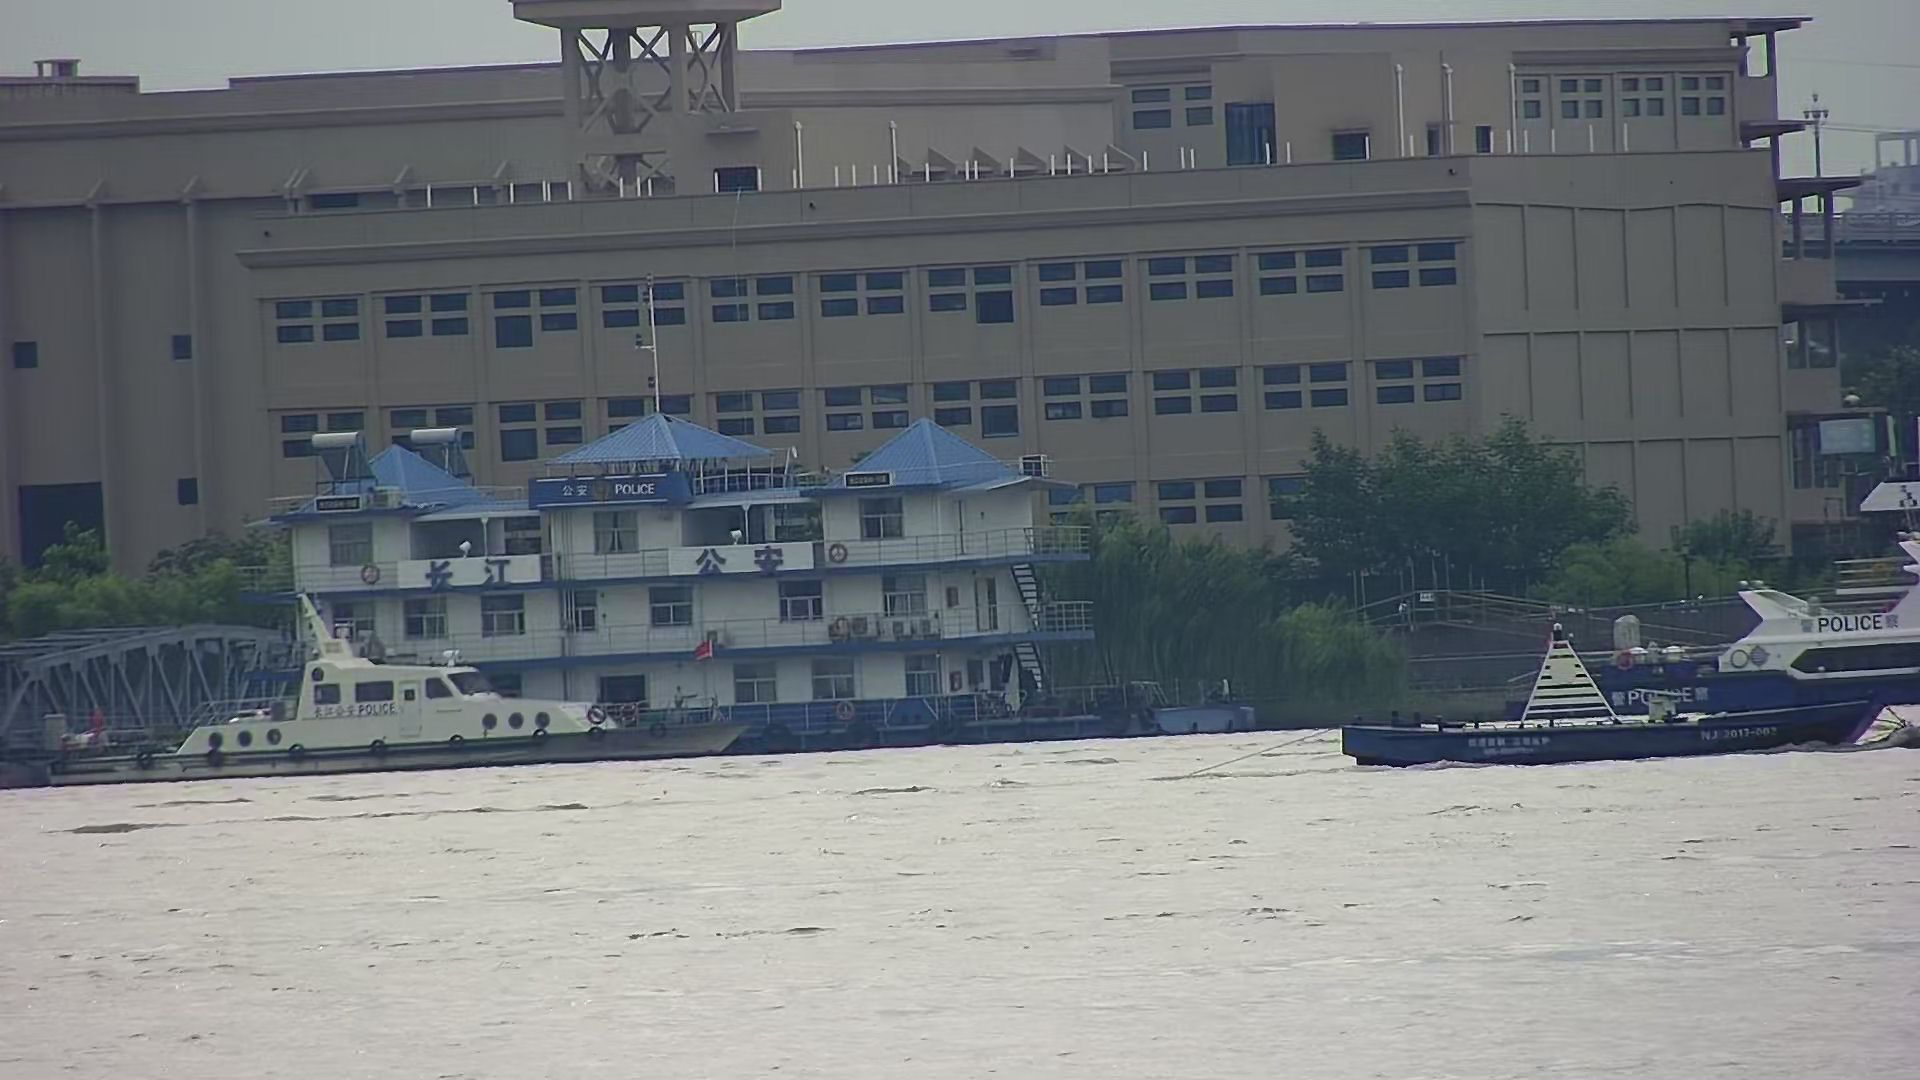boat: (1317, 611, 1907, 775), (186, 587, 621, 760), (1, 695, 767, 786)
